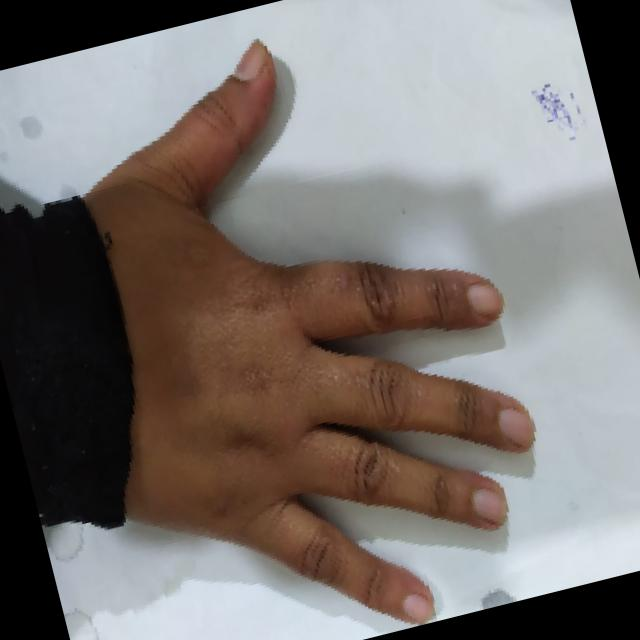Nail: (232, 40, 269, 81), (498, 408, 534, 447), (471, 488, 507, 525), (467, 282, 502, 314), (402, 593, 433, 623)
